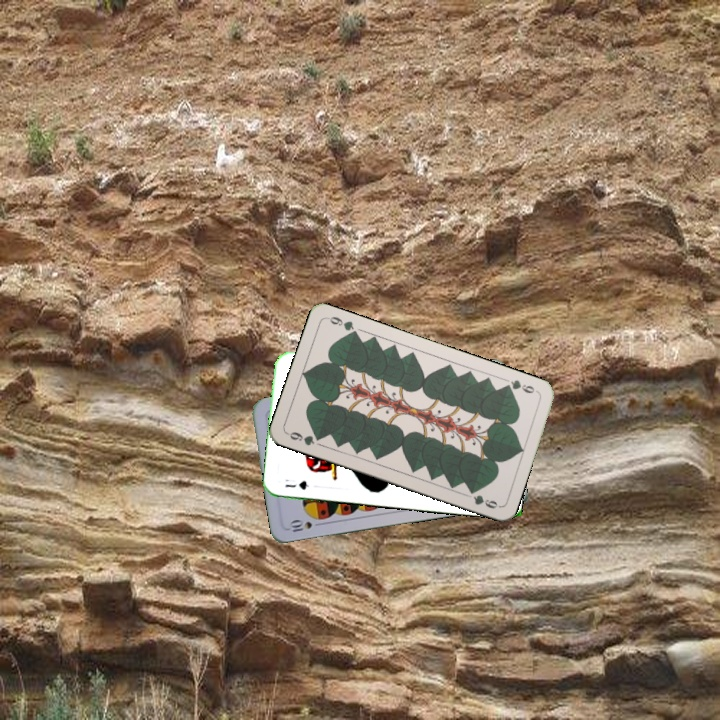G9: (283, 428, 325, 448), (499, 375, 537, 396)
GU: (281, 477, 311, 492)
S10: (286, 516, 325, 534)
